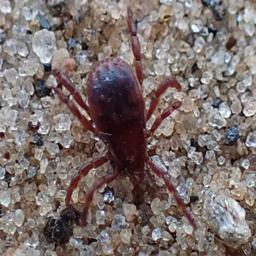Rhipicephalus sanguineus: (57, 8, 195, 229)
